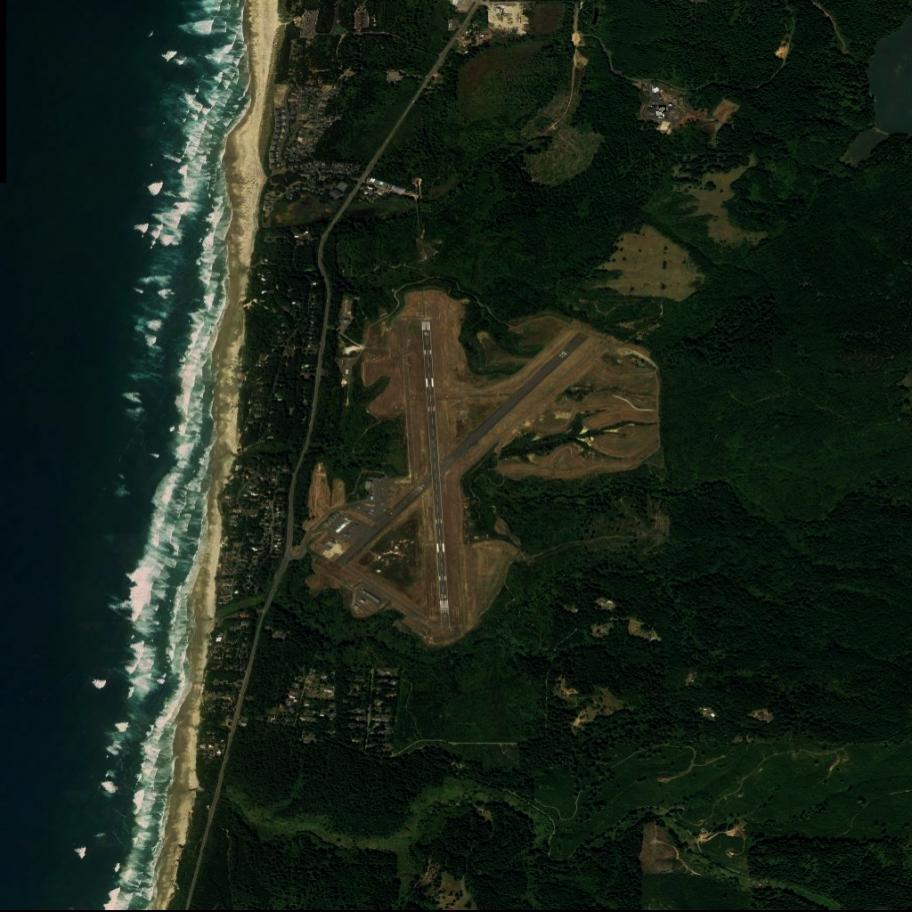storage-tank: (660, 105, 667, 113), (652, 86, 659, 93), (657, 112, 662, 116)
